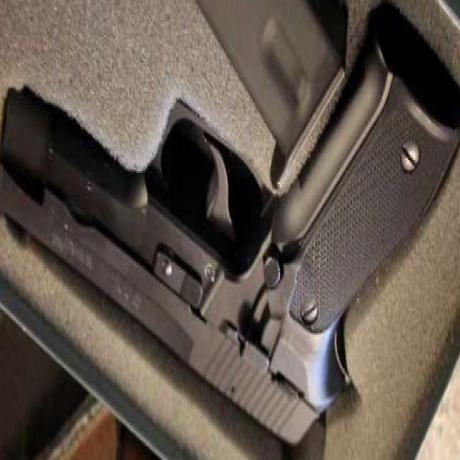weapon: (4, 23, 432, 442)
